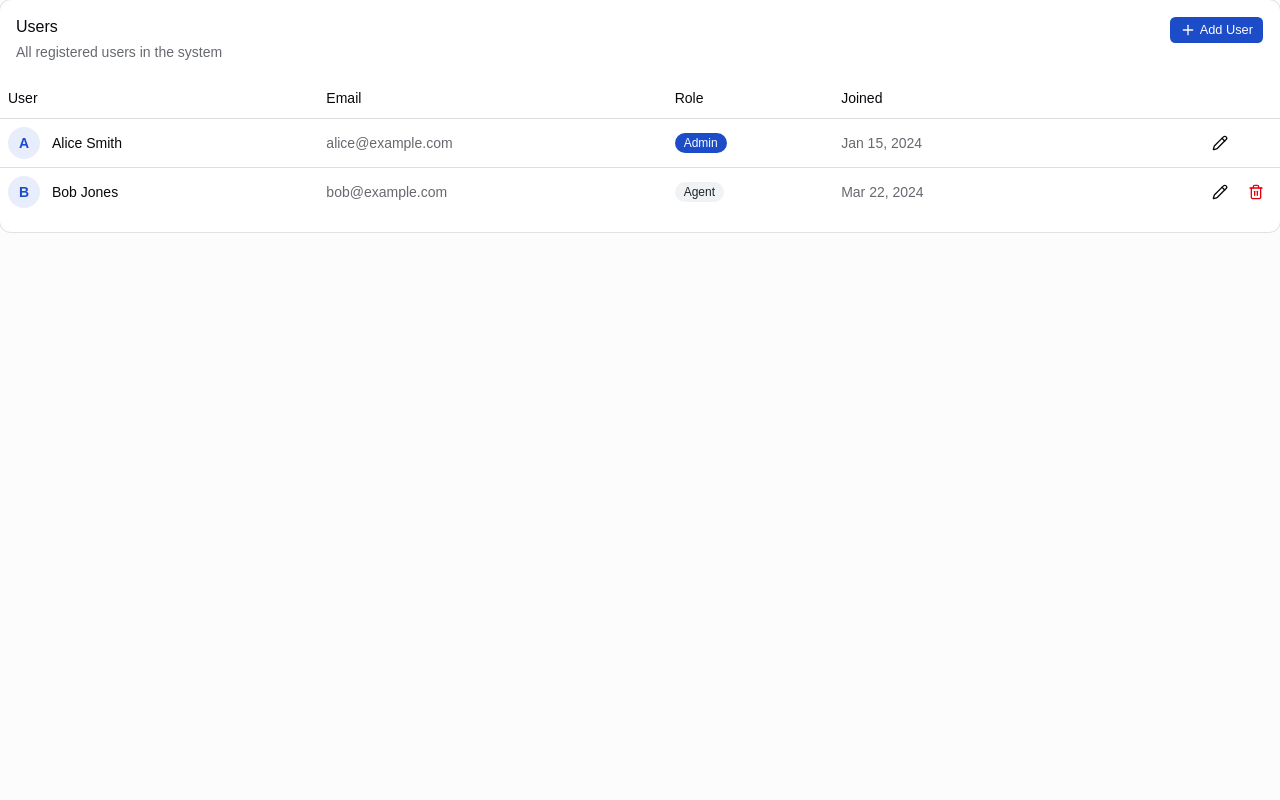
Test case: UsersPage › Edit User dialog › opens the edit dialog when an edit button is clicked
This screenshot has width=1280, height=800.
Check: the text "Alice Smith" is shown, box 52,132 -> 122,152
Click the button named "Edit Alice Smith": (1220,142) 1204,126 -> 1236,158
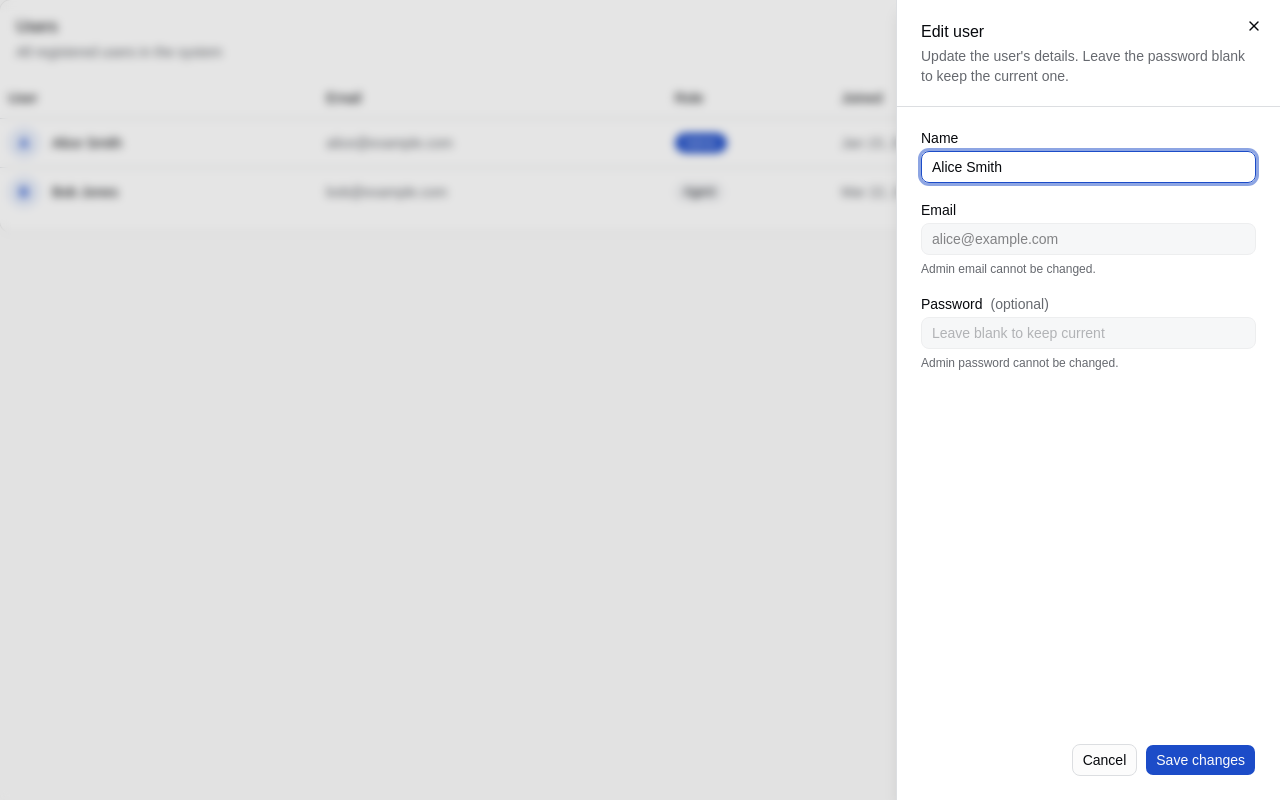
Check: the dialog is shown, box 896,0 -> 1279,799
Check: the heading "Edit user" is shown, box 921,23 -> 984,40
